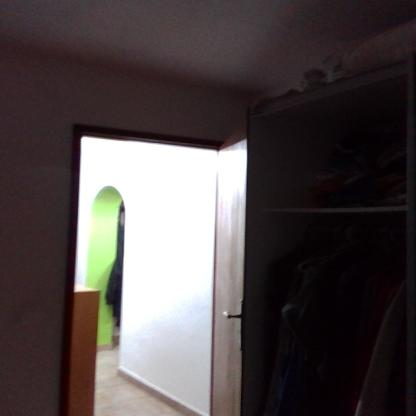open: (60, 115, 264, 412)
